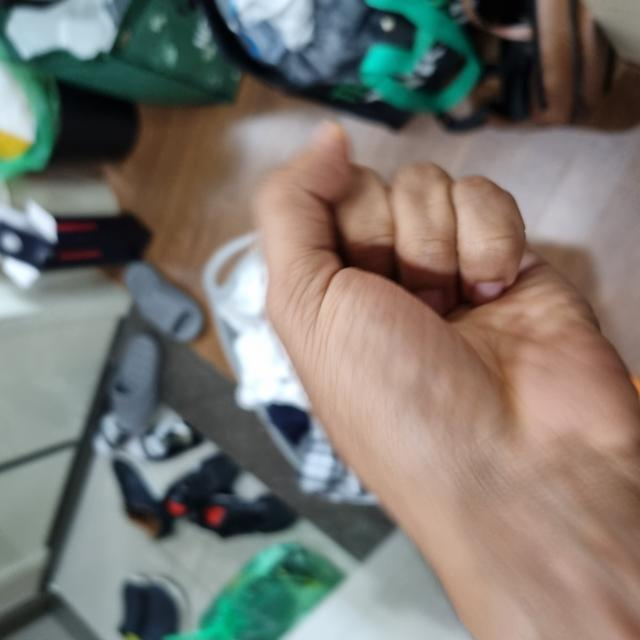Rock: (0, 252, 510, 639)
